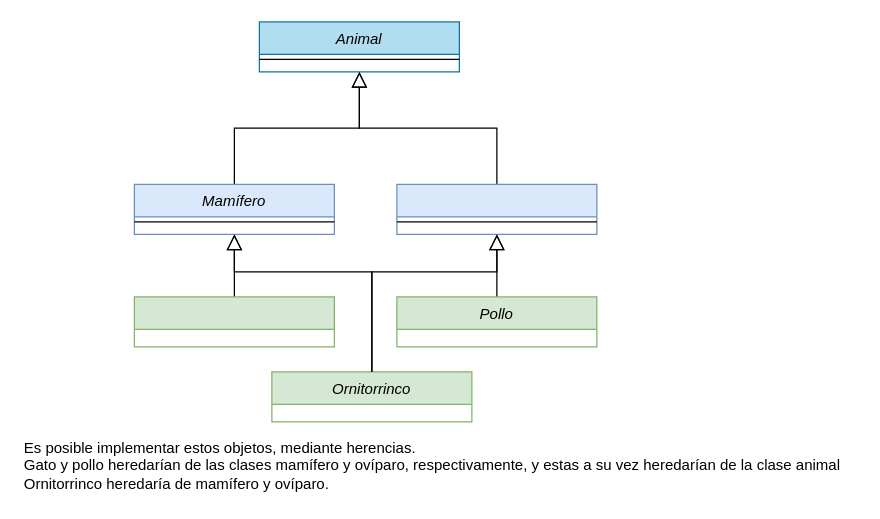
Some shapes in this 880 by 519 pixel diagram are drawn without their labels. The box of each missing label's shape, as (x1, y1, x2, y2) in pixels:
Gato: (133, 296, 334, 347)
Ovíparo: (396, 183, 597, 234)
